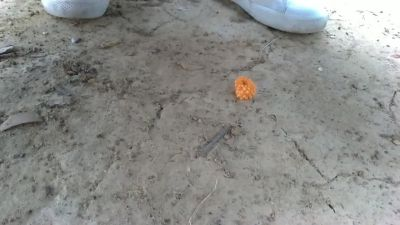eggs: (233, 71, 260, 106)
